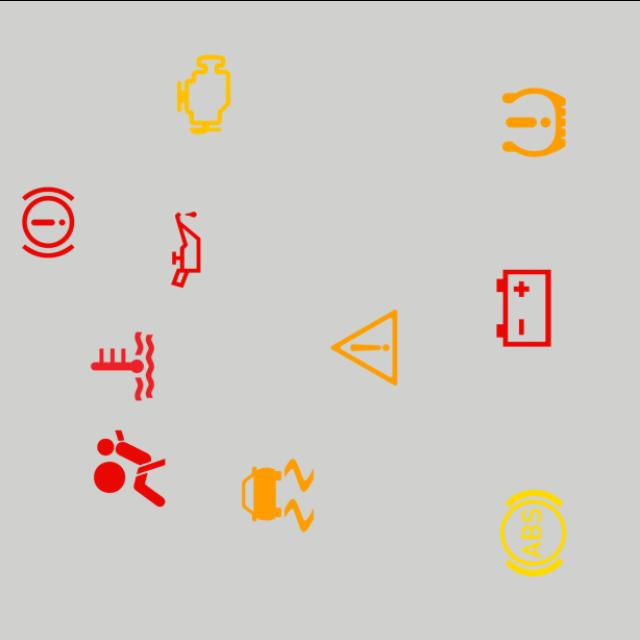Anti Lock Braking System: (486, 484, 580, 580)
Braking System Issue: (1, 174, 96, 269)
Charging System Issue: (476, 260, 572, 354)
Check Engine: (156, 46, 252, 141)
Electronic Stability Problem -ESP-: (230, 447, 326, 542)
Engine Overheating Warning Light: (75, 318, 170, 413)
Low Engine Oil Warning Light: (138, 201, 234, 296)
Low Tire Pressure Warning Light: (486, 74, 582, 169)
Master warning light: (317, 299, 412, 394)
SRS-Airbag: (82, 420, 178, 515)
